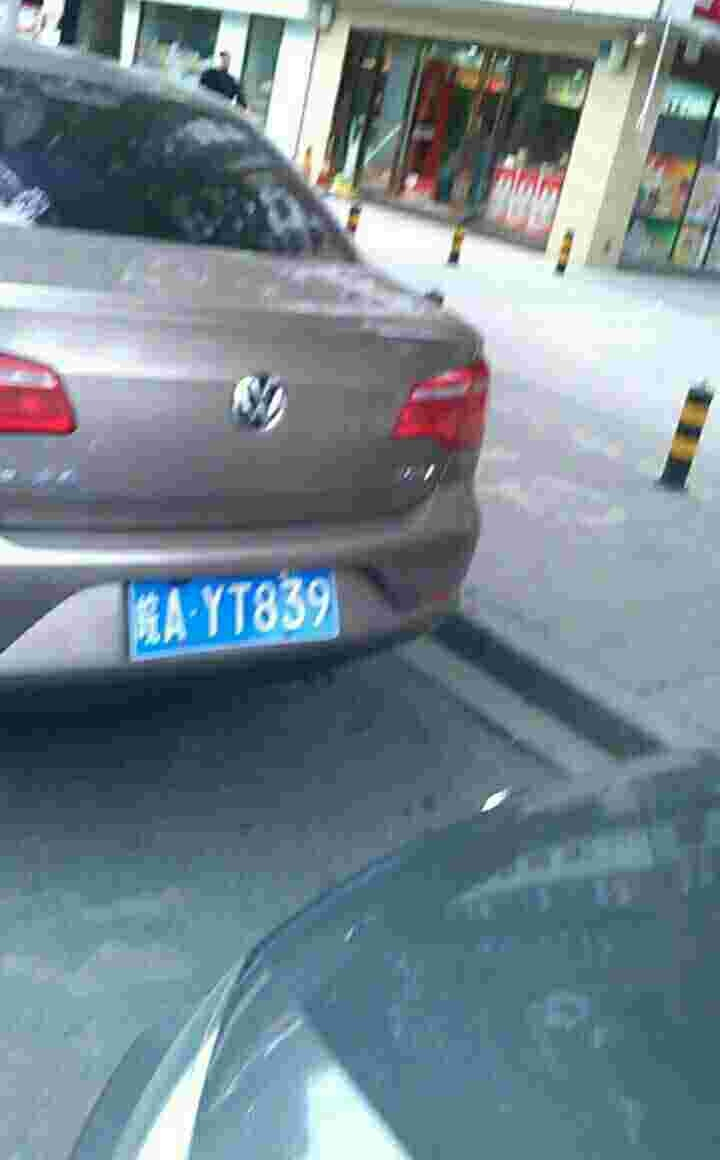license_plate: (140, 582, 340, 667)
